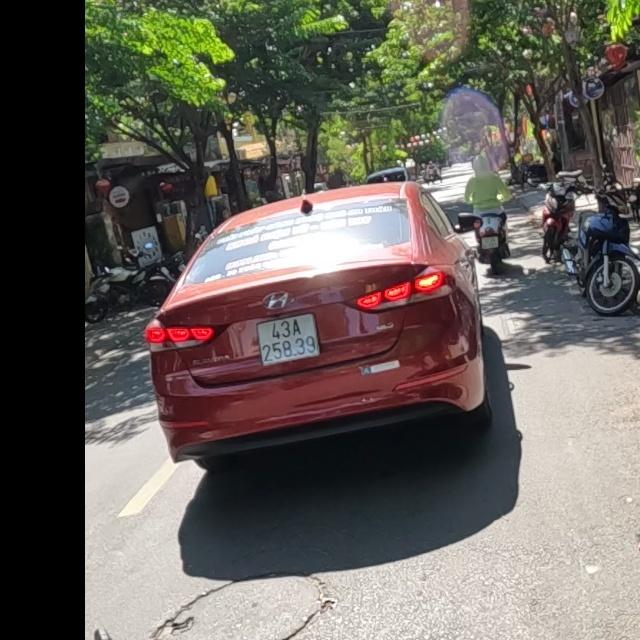license-plate: (256, 312, 322, 368)
